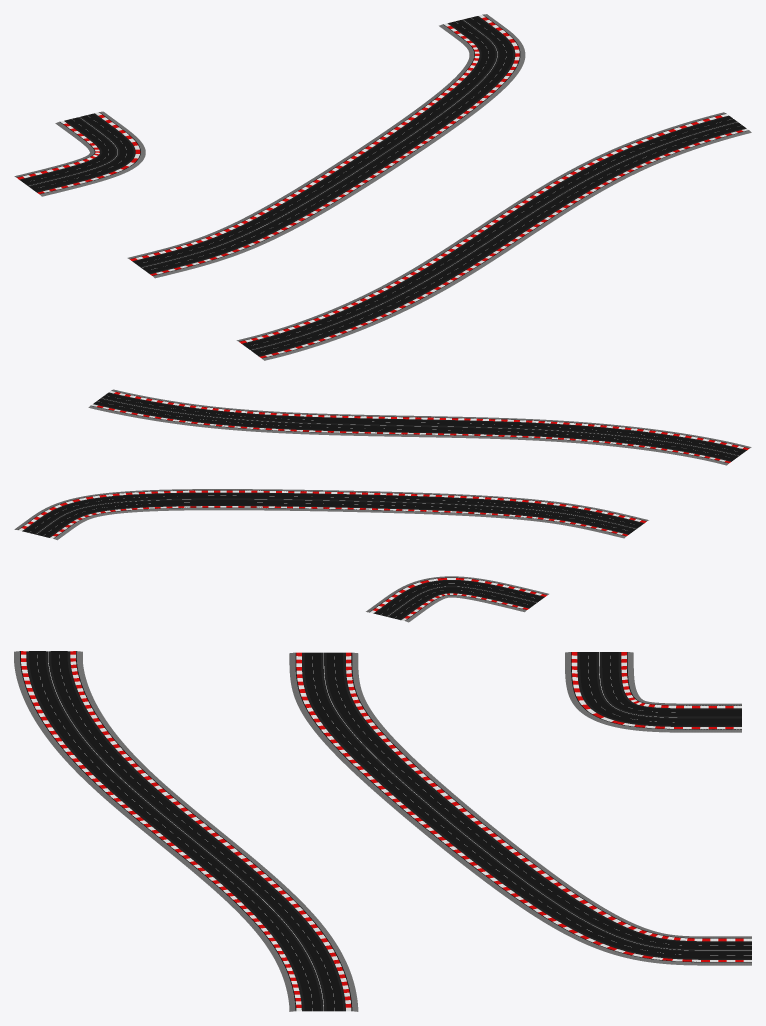
File: S0.3c1-1c2-2l3-triway.glb
3 renders of one model, top to bottom at view 1: azimuth 30°, elevation 25°; view 2: azimuth 150°, elevation 25°; view 3: azimuth 270°, elevation 25°, orthographic. The views are drawn at different scales.
Parts seen in each view (by area): view 1: Grid, Grid.001, Grid.002; view 2: Grid, Grid.001, Grid.002; view 3: Grid, Grid.001, Grid.002.
Part boxes in pixels (x1=…): Grid: x1=236, y1=112, x2=751, y2=360; Grid.001: x1=127, y1=14, x2=525, y2=278; Grid.002: x1=14, y1=111, x2=145, y2=196; Grid: x1=88, y1=389, x2=751, y2=465; Grid.001: x1=14, y1=489, x2=648, y2=540; Grid.002: x1=366, y1=576, x2=548, y2=622; Grid: x1=14, y1=651, x2=358, y2=1011; Grid.001: x1=289, y1=652, x2=751, y2=965; Grid.002: x1=565, y1=652, x2=741, y2=732.
Bounding box in the file's own units: 309 × 0.31 × 268.
